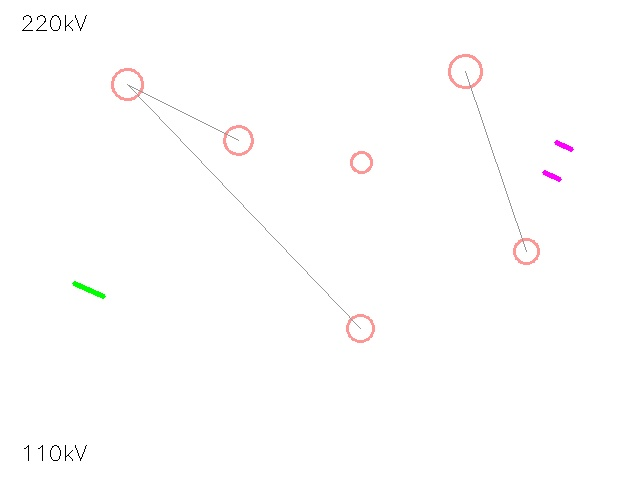busbar: (69, 270, 109, 310)
capacitor: (531, 134, 585, 188)
current_transformer: (432, 38, 498, 104)
disconnect_switch: (333, 301, 387, 355), (501, 226, 551, 276)
feeder_terminal: (96, 53, 158, 115)
load_break_switch: (340, 141, 382, 183)
voltage_transformer: (210, 112, 266, 168)
